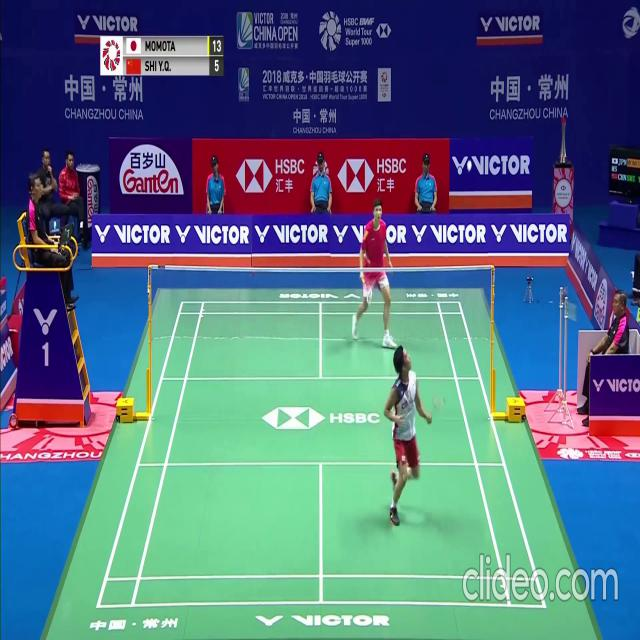Shuttlecock: (467, 162, 472, 170)
